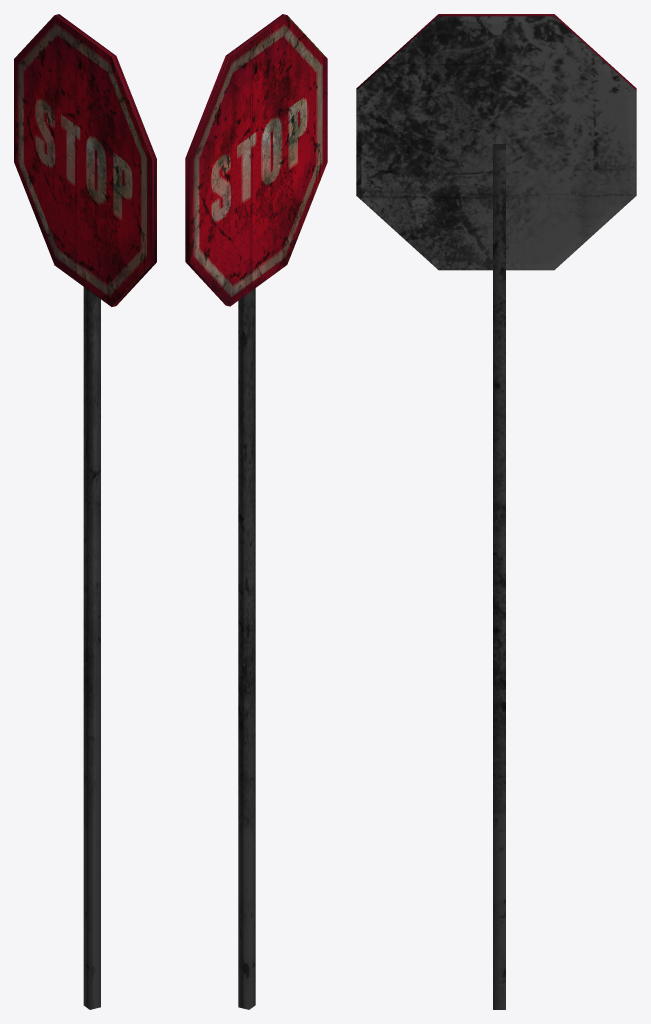
The model's file is Stop_Sign.FBX.
The picture shows the model from 3 angles, left to right: view 1: azimuth 30°, elevation 25°; view 2: azimuth 150°, elevation 25°; view 3: azimuth 270°, elevation 25°; orthographic projection.
Parts seen in each view (by area): view 1: Stop_Sign; view 2: Stop_Sign; view 3: Stop_Sign.
Boxes of the visible parts, <box> form: Stop_Sign: <box>14,14,156,1009</box>; Stop_Sign: <box>185,14,327,1009</box>; Stop_Sign: <box>356,14,636,1009</box>.
Size of the model in its own units: 0.215 by 3.2 by 12.46.
1 material, 1 textured.
